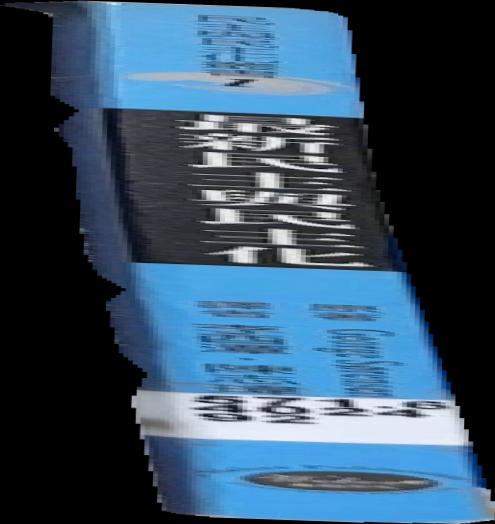book: (1, 1, 495, 524)
